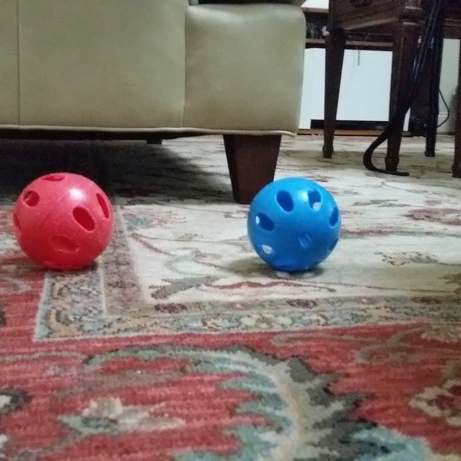ball: (10, 169, 117, 273), (244, 177, 344, 274)
